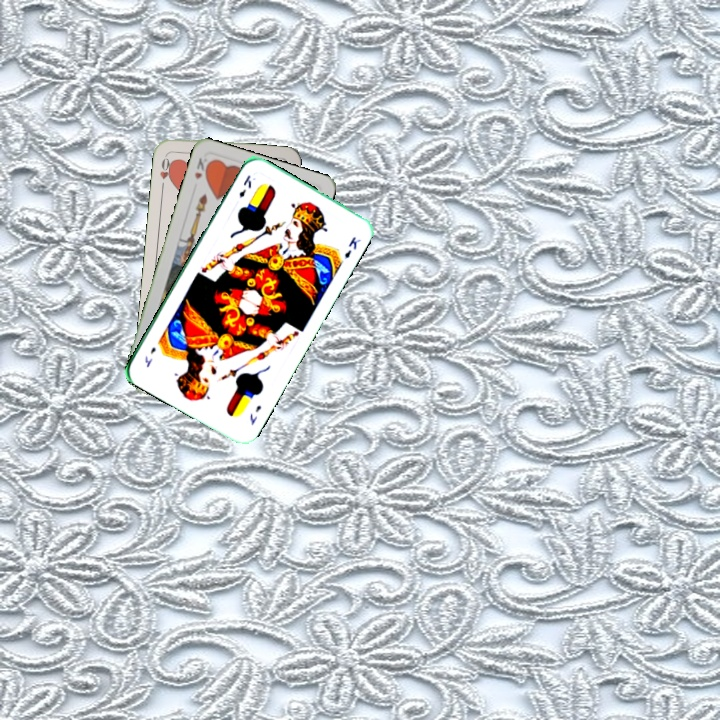EK: (235, 171, 254, 200), (245, 401, 264, 427)
HK: (190, 154, 213, 182)
HO: (156, 150, 175, 191)
